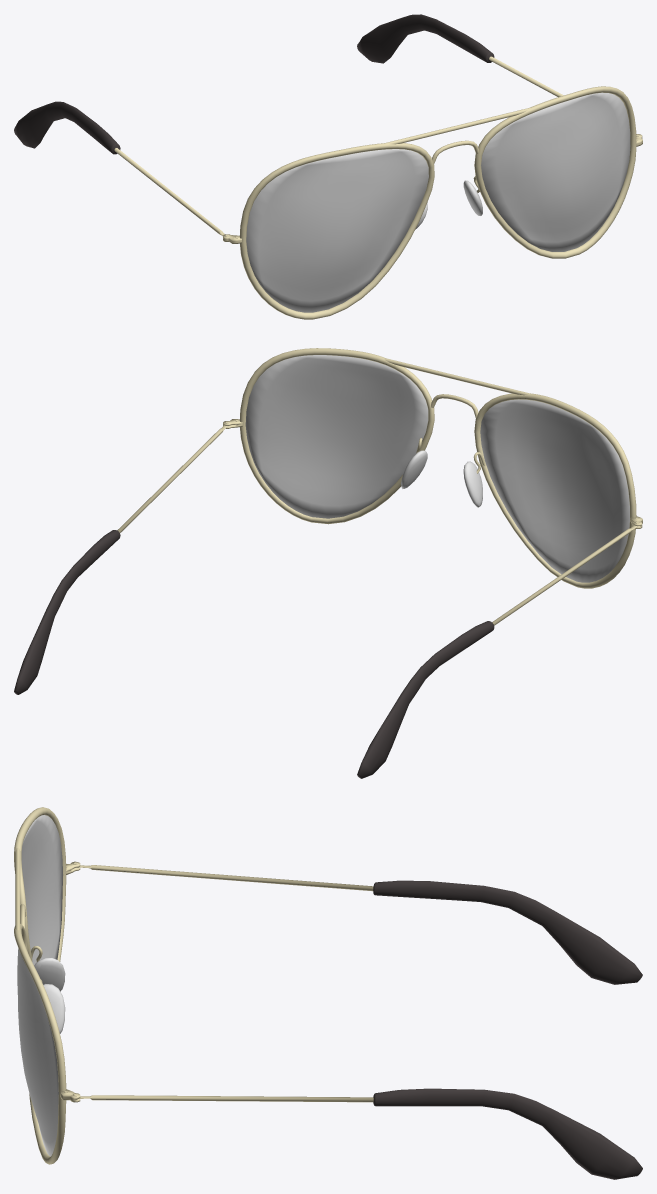
Rendered from sunglasses.fbx.
The picture shows the model from 3 angles, top to bottom: view 1: azimuth 30°, elevation 25°; view 2: azimuth 150°, elevation 25°; view 3: azimuth 270°, elevation 25°; orthographic projection. The views are drawn at different scales.
Parts seen in each view (by area): view 1: sunglasses; view 2: sunglasses; view 3: sunglasses.
Boxes of the visible parts, <box> form: sunglasses: <box>14,14,642,319</box>; sunglasses: <box>14,348,642,778</box>; sunglasses: <box>14,807,642,1179</box>.
Bounding box in the file's own units: 396 × 155 × 447.
